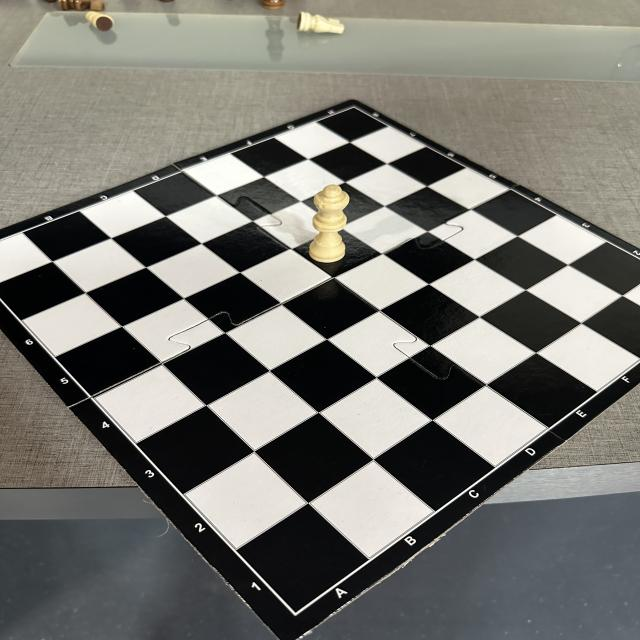White-Knight: (296, 12, 344, 34)
White-Pawn: (87, 11, 113, 30)
White-Queen: (307, 184, 351, 265)
